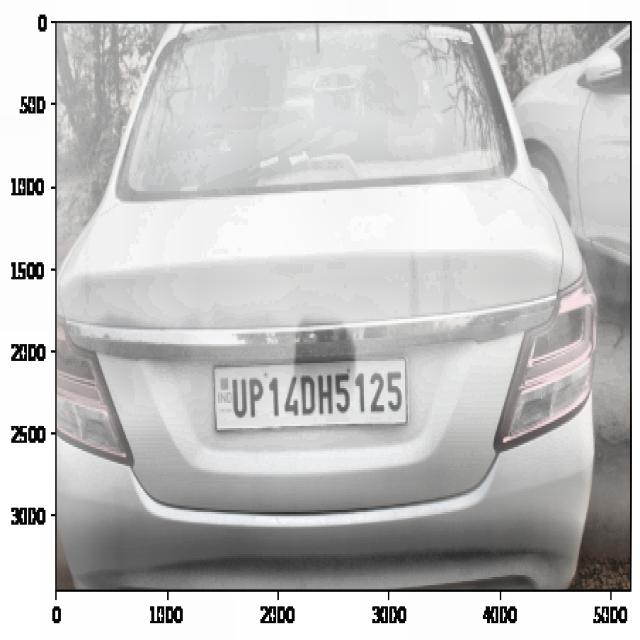license_plate: (222, 364, 407, 425)
